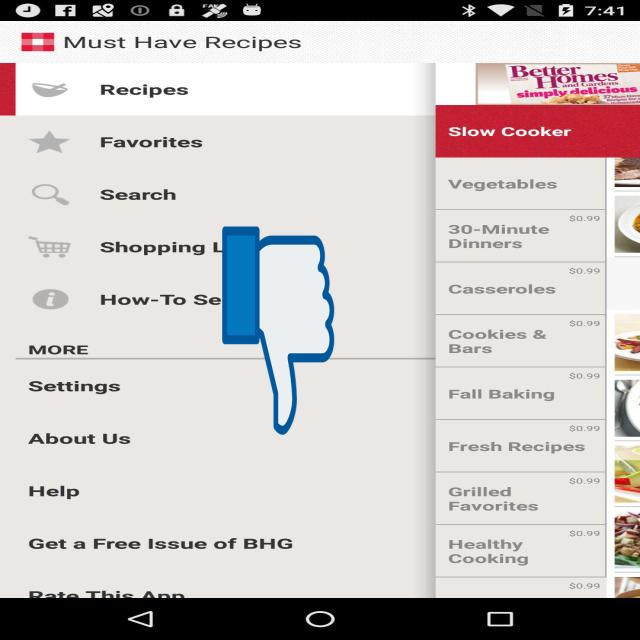obstruction: (222, 222, 334, 439)
